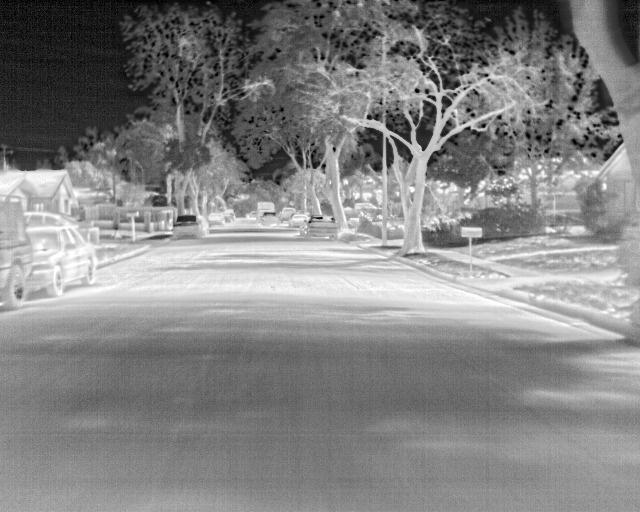car: (28, 222, 96, 297), (1, 194, 31, 307), (172, 213, 207, 237), (305, 218, 339, 239), (258, 211, 278, 226), (288, 213, 307, 227), (208, 212, 227, 225), (223, 209, 236, 222)
